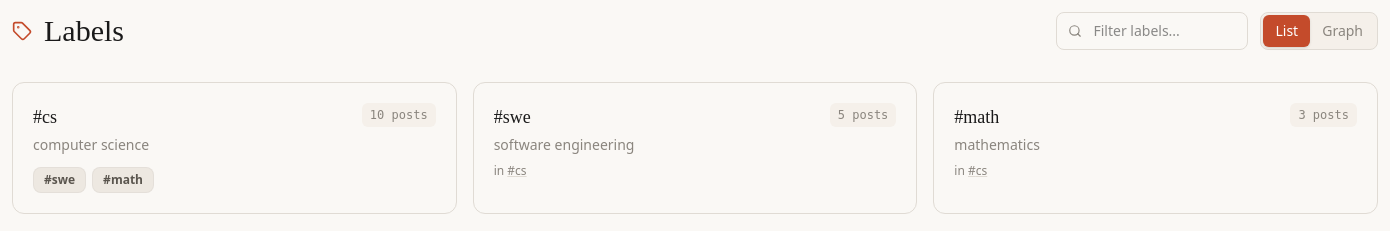
LabelsPage › shows empty message when search matches nothing
Check: the link named "Open label #swe" is shown, box [474, 83, 916, 213]
Type "zzzzz" into the field with placeholder "Filter labels..." at (1152, 31), box [1056, 12, 1248, 50]
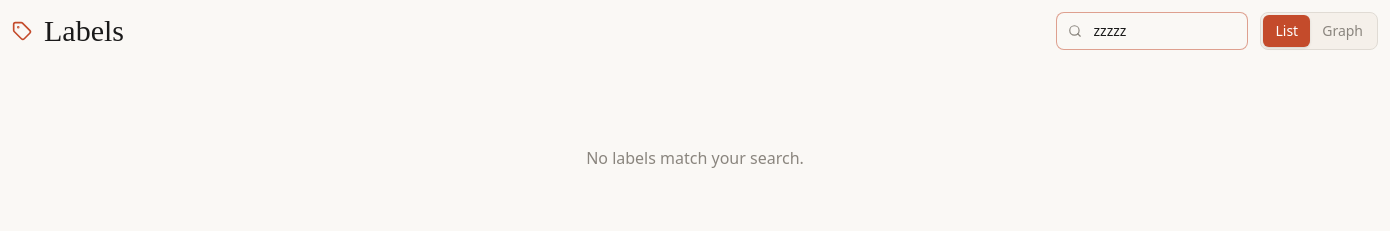
Check: the link "#swe" is gone
Check: the link "#math" is gone
Check: the text "No labels match your search." is shown, box [586, 147, 804, 169]
